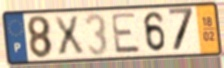3: (84, 10, 111, 59)
6: (142, 10, 167, 54)
7: (167, 7, 196, 55)
8: (26, 14, 55, 60)
E: (109, 11, 143, 56)
X: (51, 15, 87, 58)
